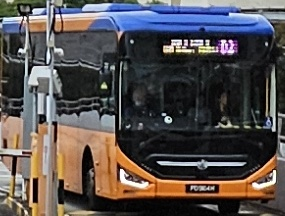bus: (216, 38, 238, 55)
